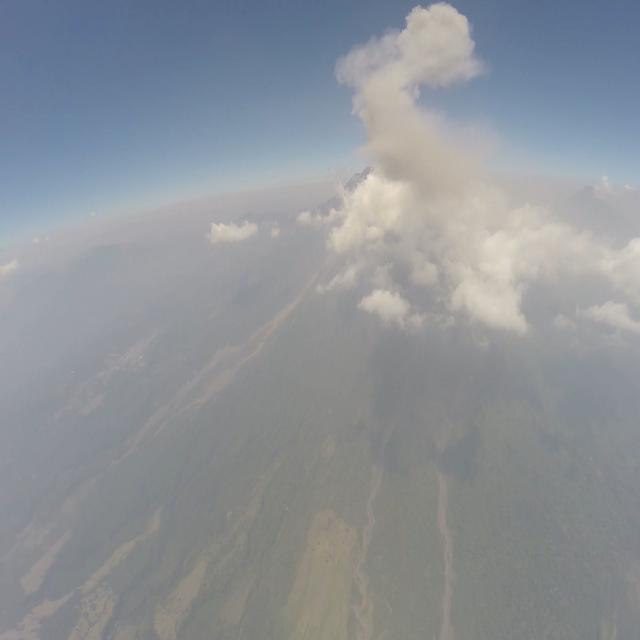Plume: (340, 0, 500, 215)
